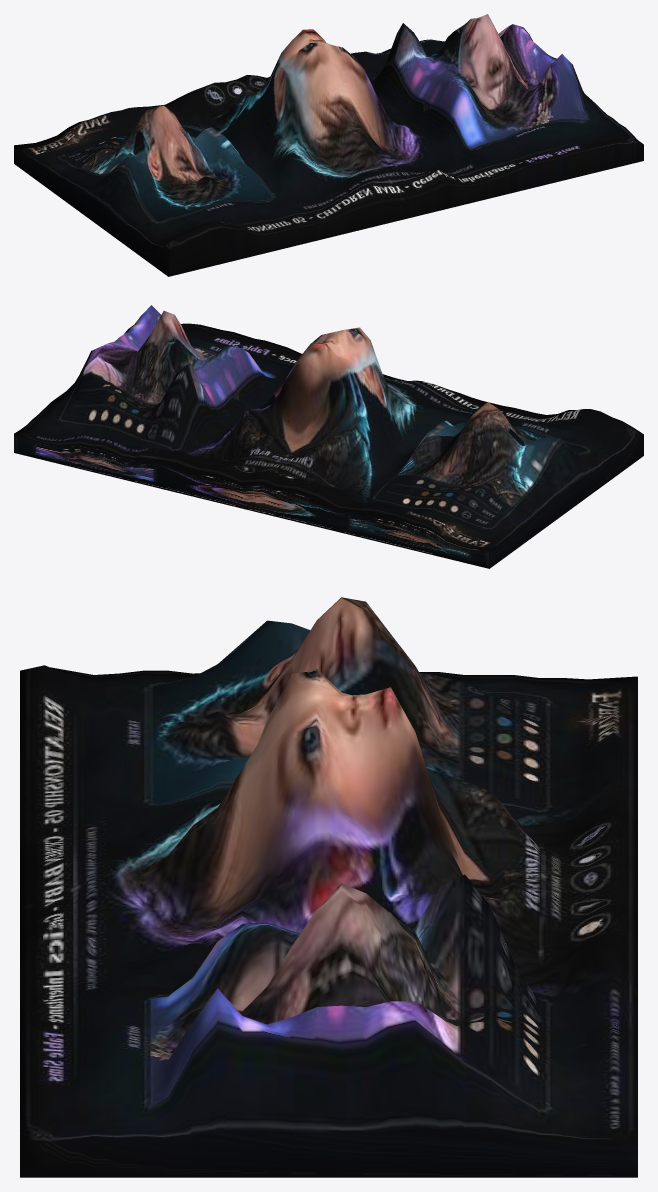
Rendered from RELATIONSHIP_05_Children_Baby.glb.
The picture shows the model from 3 angles, top to bottom: view 1: azimuth 30°, elevation 25°; view 2: azimuth 150°, elevation 25°; view 3: azimuth 270°, elevation 25°; orthographic projection. The views are drawn at different scales.
Visible parts, largest first — view 1: RELATIONSHIP_05_Children_Baby; view 2: RELATIONSHIP_05_Children_Baby; view 3: RELATIONSHIP_05_Children_Baby.
Part boxes in pixels (x1=…): RELATIONSHIP_05_Children_Baby: x1=14, y1=14, x2=643, y2=276; RELATIONSHIP_05_Children_Baby: x1=14, y1=305, x2=643, y2=568; RELATIONSHIP_05_Children_Baby: x1=20, y1=597, x2=637, y2=1177.
Bounding box in the file's own units: 2 × 0.51 × 1.13.
1 material, 1 textured.
